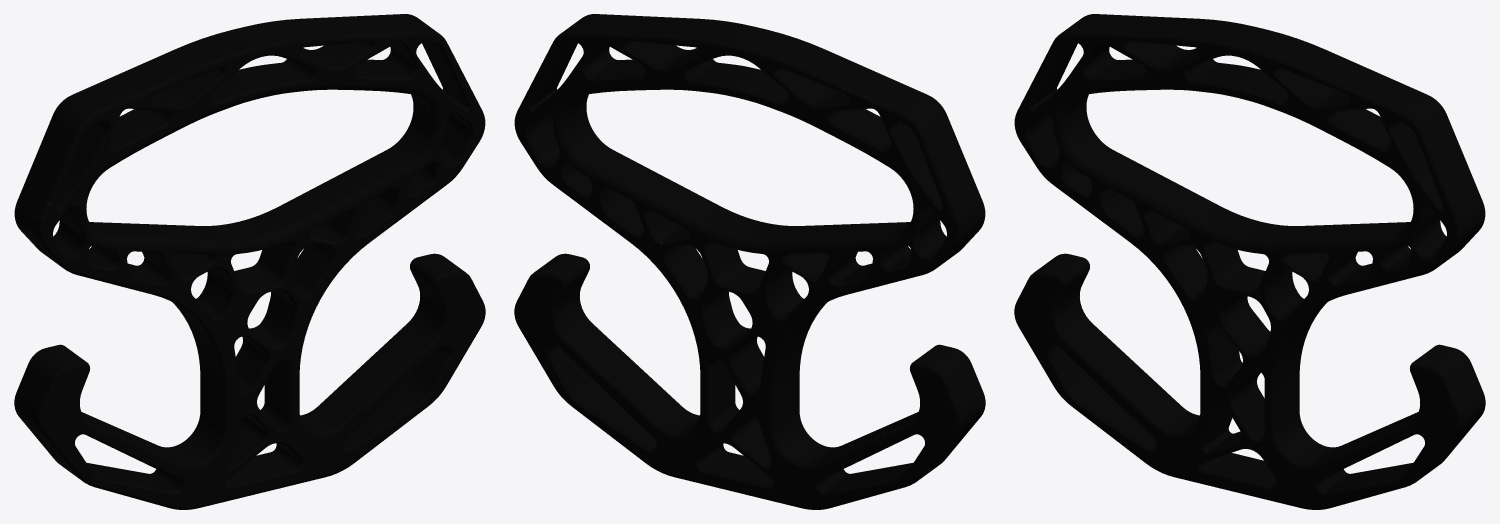
File: transportador.glb
3 renders of one model, left to right at view 1: azimuth 30°, elevation 25°; view 2: azimuth 150°, elevation 25°; view 3: azimuth 330°, elevation 25°, orthographic.
Parts seen in each view (by area): view 1: mesh_id4; view 2: mesh_id4; view 3: mesh_id4.
Part boxes in pixels (box(x1,y1,x2,y2)): mesh_id4: box(14, 14, 485, 509); mesh_id4: box(514, 14, 985, 509); mesh_id4: box(1014, 14, 1485, 509).
Bounding box in the file's own units: 0.512 × 0.4888 × 0.0529.
Materials: 1 (1 with a texture image).
